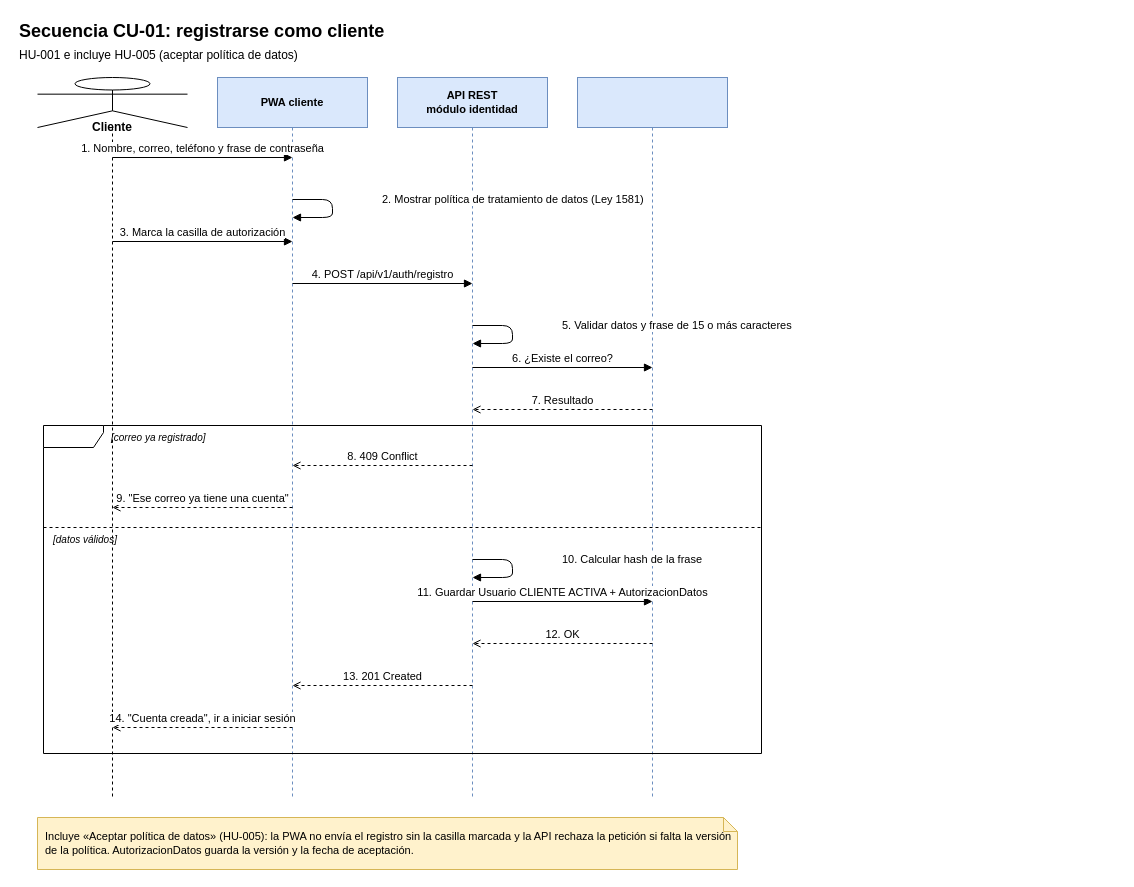
This 1134x887 diagram has some shape labels left out. The box of each missing label's shape, as (x1, y1, x2, y2) in pixels:
alt: (42, 424, 762, 754)
PostgreSQL: (576, 76, 728, 798)
